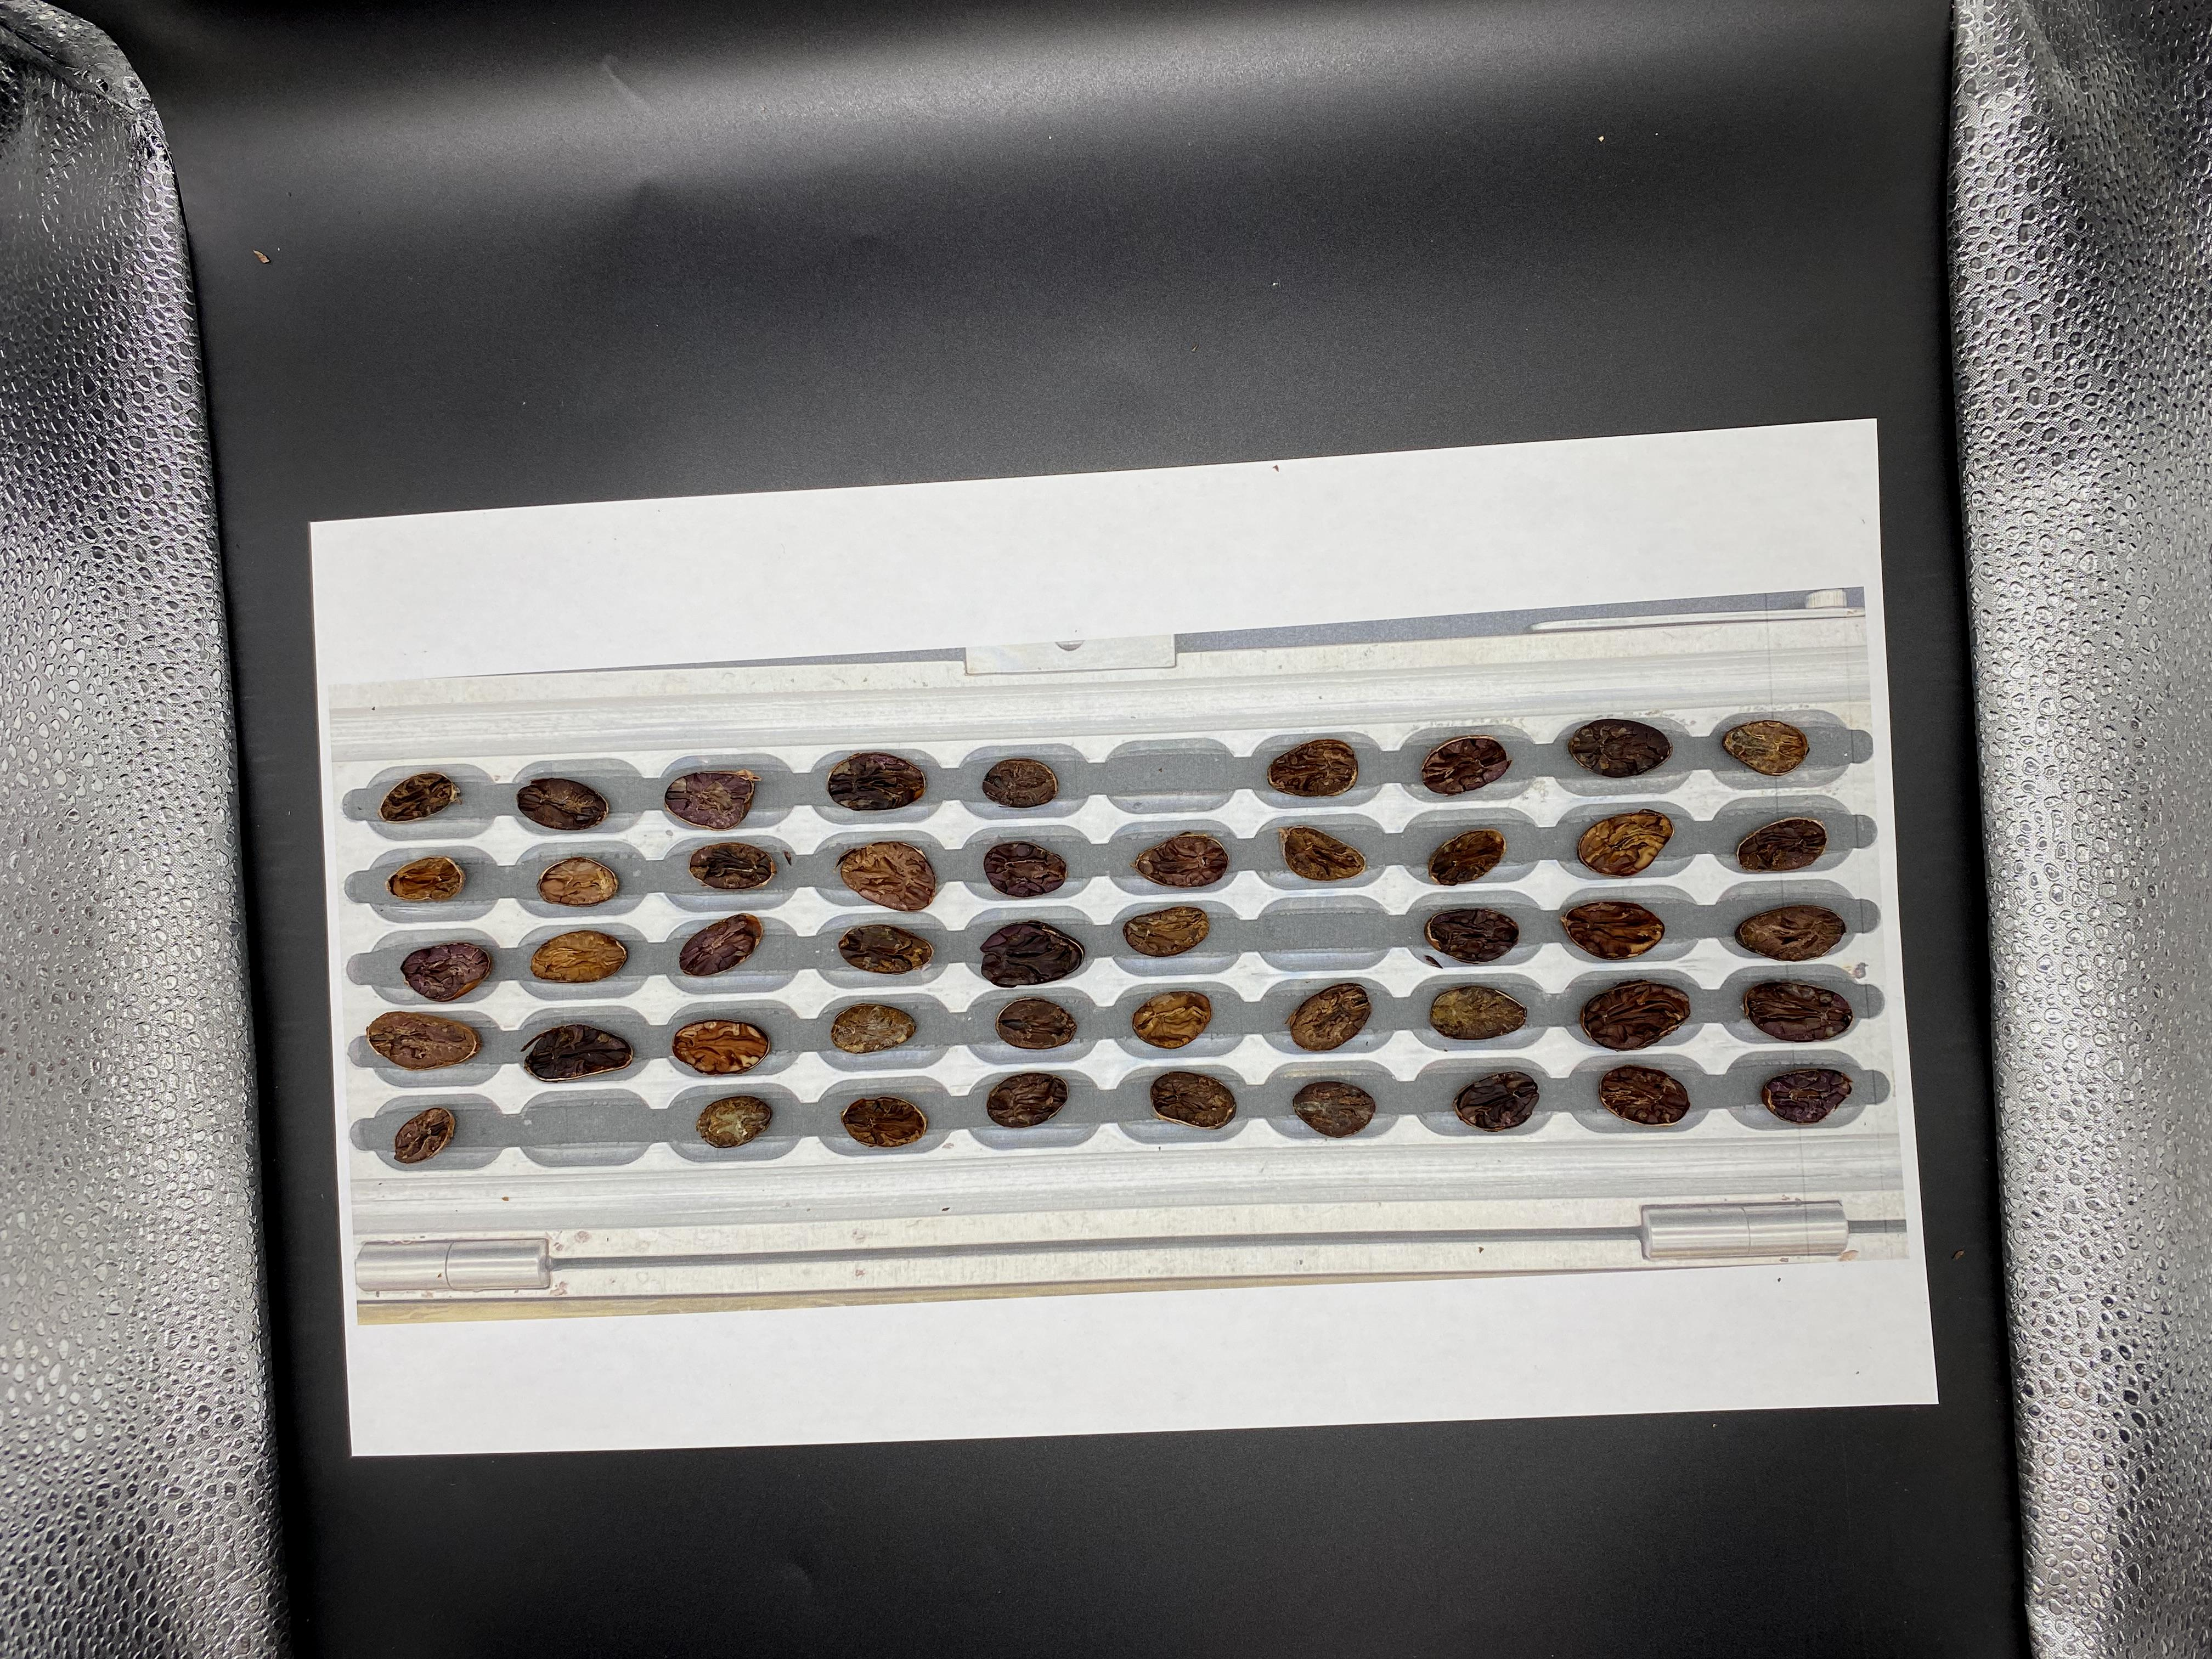Brown - G1: (1890, 497, 1951, 538), (1878, 455, 1937, 491), (1428, 514, 1484, 549), (1282, 434, 1329, 462)
Brown - G2: (1512, 425, 1569, 467), (1888, 410, 1942, 450), (1898, 540, 1952, 577), (1730, 373, 1784, 410), (1662, 420, 1717, 455), (1658, 500, 1709, 537), (1735, 418, 1787, 453), (1811, 418, 1857, 453), (1514, 556, 1562, 587)
Brown - G3: (1273, 509, 1336, 547), (1968, 457, 2029, 491), (1738, 498, 1791, 538), (1669, 542, 1721, 579), (1355, 471, 1413, 504), (1359, 432, 1407, 465), (1656, 458, 1707, 490), (1592, 505, 1639, 537), (1285, 561, 1325, 594)
Insect-damaged: (1813, 498, 1869, 532)
Mouldy: (1742, 547, 1791, 584), (1961, 364, 2012, 399), (1440, 554, 1486, 587), (1510, 509, 1559, 538), (1587, 383, 1630, 413)
Partly Purple - G1: (1580, 467, 1644, 507), (1808, 371, 1860, 408)
Partly Purple - G2: (1972, 497, 2034, 535), (1353, 518, 1414, 554), (1505, 380, 1564, 416), (1808, 458, 1864, 495), (1587, 425, 1635, 460), (1437, 429, 1486, 457)
Partly Purple - G3: (1430, 462, 1480, 500)
Total Purple - G2: (1982, 540, 2034, 575)
Total Purple - G3: (1423, 389, 1479, 425), (1291, 476, 1343, 514)
Very Dark Brown - G1: (1278, 387, 1327, 423)
Very Dark Brown - G2: (1968, 411, 2020, 450), (1825, 542, 1876, 579), (1588, 544, 1635, 577)
Very Dark Brown - G3: (1881, 362, 1944, 401), (1348, 392, 1404, 425), (1514, 469, 1568, 498)
